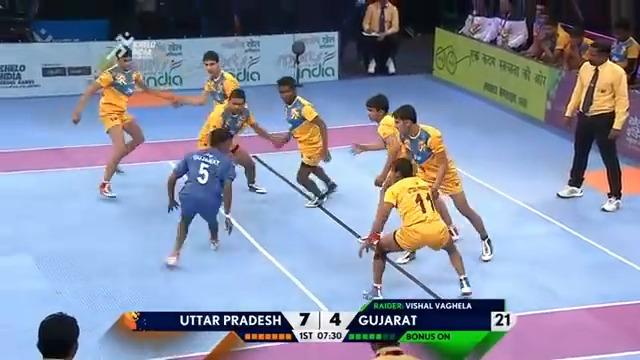Player: (389, 103, 494, 263), (71, 43, 179, 198), (358, 157, 472, 300), (348, 93, 416, 263), (269, 75, 337, 207), (196, 88, 280, 194), (171, 50, 241, 114)
Raider: (164, 126, 237, 268)
referee: (555, 38, 630, 211), (360, 0, 400, 75)
